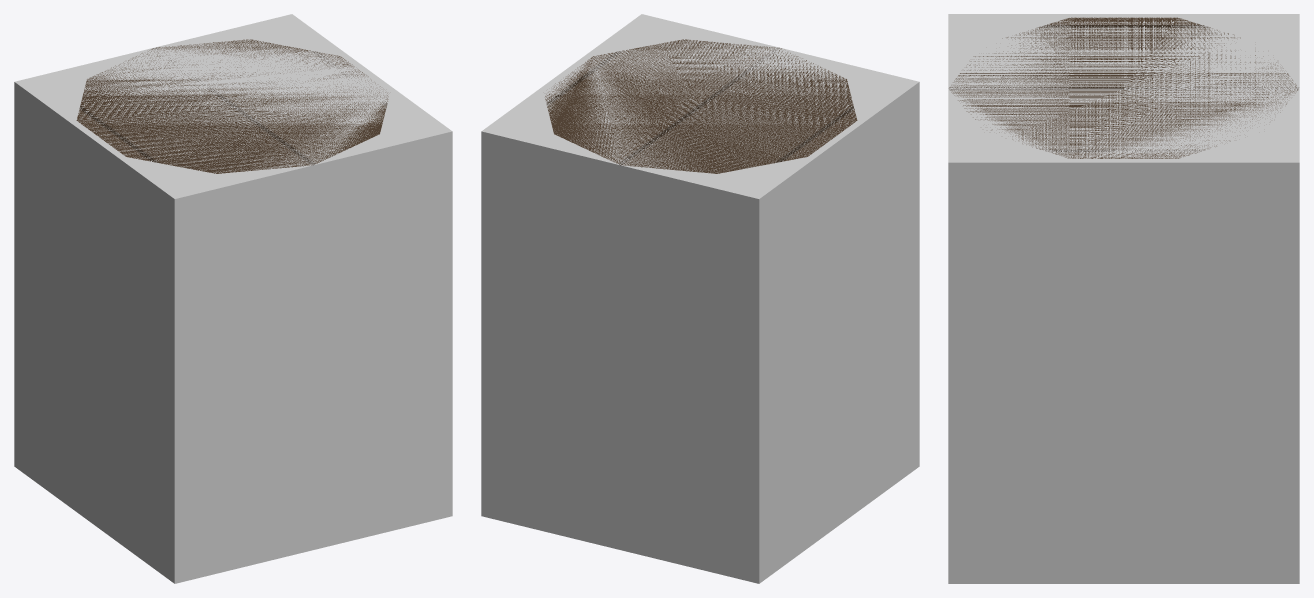
Rendered from stool.glb.
3 renders of one model, left to right at view 1: azimuth 30°, elevation 25°; view 2: azimuth 150°, elevation 25°; view 3: azimuth 270°, elevation 25°, orthographic. The views are drawn at different scales.
Parts seen in each view (by area): view 1: COL_HULL_stool, stool; view 2: COL_HULL_stool, stool; view 3: COL_HULL_stool, stool.
Part boxes in pixels (x1=…): COL_HULL_stool: x1=14, y1=14, x2=452, y2=583; stool: x1=76, y1=39, x2=388, y2=173; COL_HULL_stool: x1=481, y1=14, x2=919, y2=583; stool: x1=545, y1=39, x2=857, y2=173; COL_HULL_stool: x1=948, y1=14, x2=1299, y2=583; stool: x1=949, y1=17, x2=1298, y2=158.
Size of the model in its own units: 0.34 by 0.45 by 0.34.
2 materials, 2 textured.
